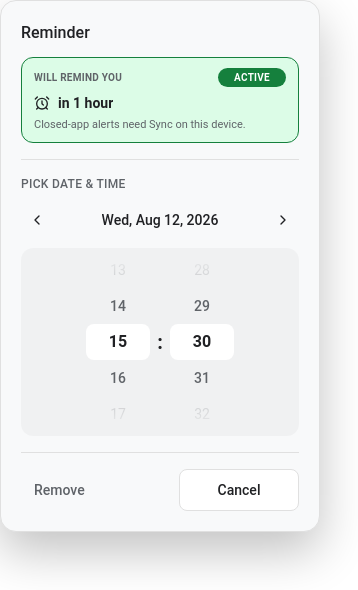
it: ReminderPicker remaining time › updates remaining time when the hour changes
This screenshot has width=358, height=590.
(page scrolled)
Click the option "16" at (118, 378), box [110,370,126,386]
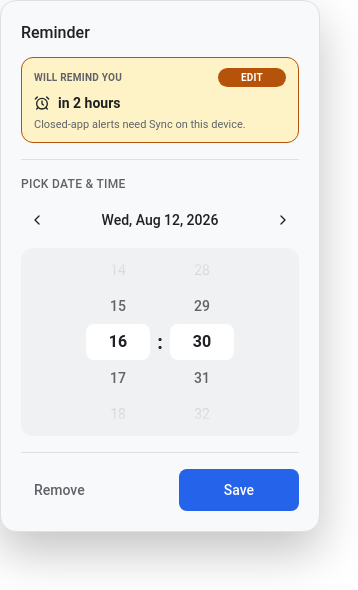
Check: the text "in 2 hours" is shown, box [58,93,120,113]
